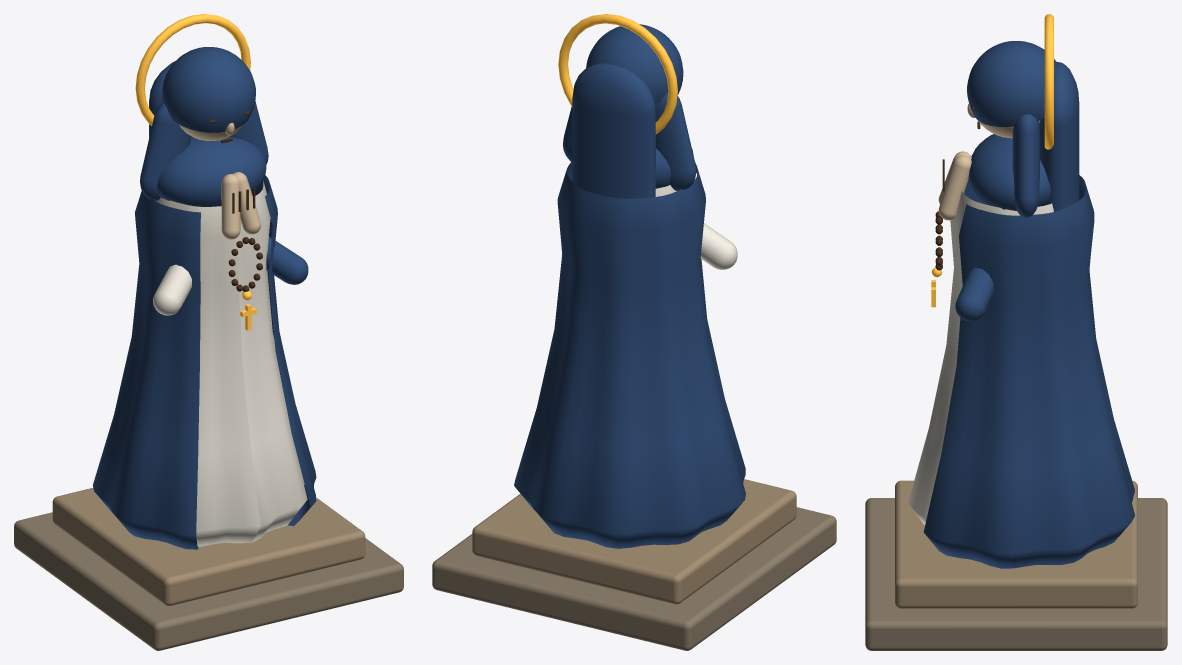
File: statue-mary.glb
3 views of the same model, side by side, from view 1: azimuth 30°, elevation 25°; view 2: azimuth 150°, elevation 25°; view 3: azimuth 270°, elevation 25° (orthographic). The views are drawn at different scales.
Visible parts, largest first — view 1: Mantle, Dress, PlinthLow, PlinthTop, Veil, Shoulders, VeilShoulder (×2), Arm (×2), object 39, Hand (×2); view 2: Mantle, PlinthLow, PlinthTop, VeilDrape, Veil, object 39, VeilShoulder, Arm; view 3: Mantle, PlinthLow, PlinthTop, Veil, Dress, VeilDrape, Shoulders, VeilShoulder, Arm, object 39, Hand.
Part boxes in pixels (box(x1,y1,x2,y2)): Mantle: box(93, 175, 316, 549); Dress: box(155, 181, 307, 546); PlinthLow: box(14, 512, 403, 650); PlinthTop: box(52, 488, 365, 606); Veil: box(162, 47, 255, 132); Shoulders: box(157, 137, 266, 206); VeilShoulder (×2): box(140, 101, 268, 200); Arm (×2): box(153, 236, 308, 315); object 39: box(135, 14, 250, 125); Hand (×2): box(221, 172, 260, 239); Mantle: box(514, 162, 745, 548); PlinthLow: box(432, 507, 836, 650); PlinthTop: box(472, 479, 796, 604); VeilDrape: box(572, 63, 655, 198); Veil: box(586, 24, 683, 102); object 39: box(558, 14, 677, 134); VeilShoulder: box(655, 92, 696, 190); Arm: box(700, 223, 737, 269); Mantle: box(923, 175, 1134, 568); PlinthLow: box(865, 498, 1167, 650); PlinthTop: box(895, 480, 1137, 608); Veil: box(967, 41, 1058, 126); Dress: box(908, 191, 1053, 524); VeilDrape: box(1039, 62, 1079, 211); Shoulders: box(968, 134, 1050, 210); VeilShoulder: box(1012, 114, 1039, 217); Arm: box(955, 267, 993, 321); object 39: box(1044, 14, 1053, 149); Hand: box(938, 155, 971, 220).
Size of the model in its own units: 0.92 by 1.91 by 0.92.
